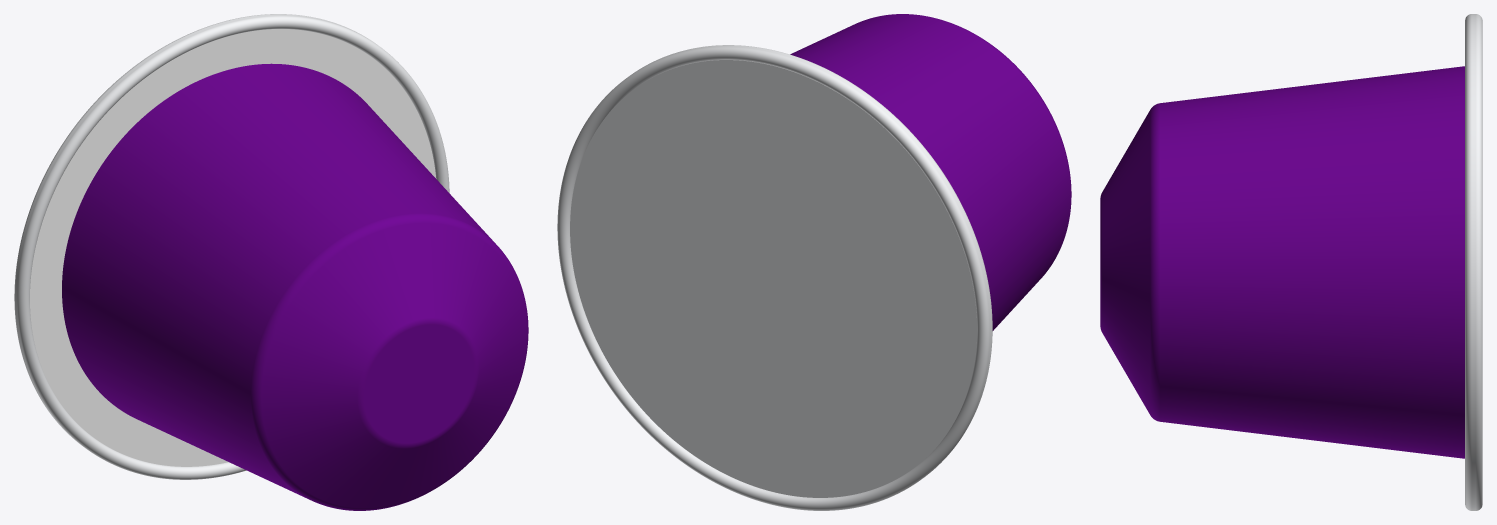
The model's file is Purple Capsule.glb.
3 renders of one model, left to right at view 1: azimuth 30°, elevation 25°; view 2: azimuth 150°, elevation 25°; view 3: azimuth 270°, elevation 25°, orthographic.
Visible parts, largest first — view 1: Капсула; view 2: Капсула; view 3: Капсула.
Part boxes in pixels (x1,y1,x2,y2): Капсула: [14, 14, 528, 510]; Капсула: [557, 14, 1071, 510]; Капсула: [1100, 14, 1482, 510].
Bounding box in the file's own units: 0.037 × 0.037 × 0.0284.
